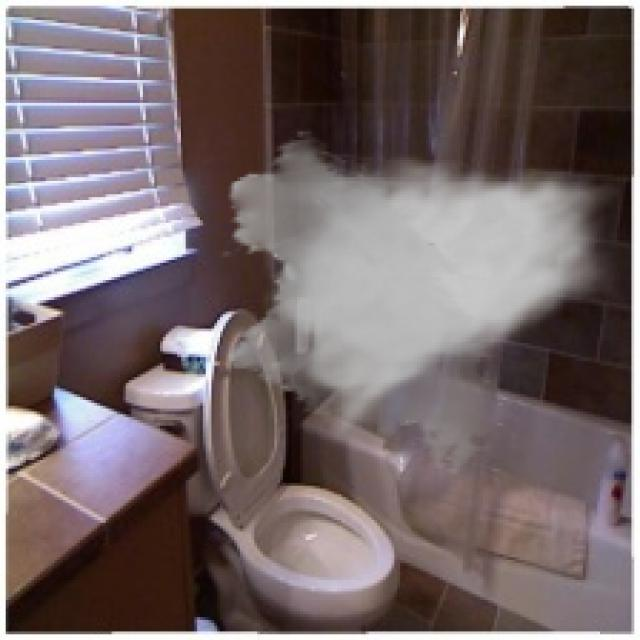smoke: (217, 129, 620, 477)
